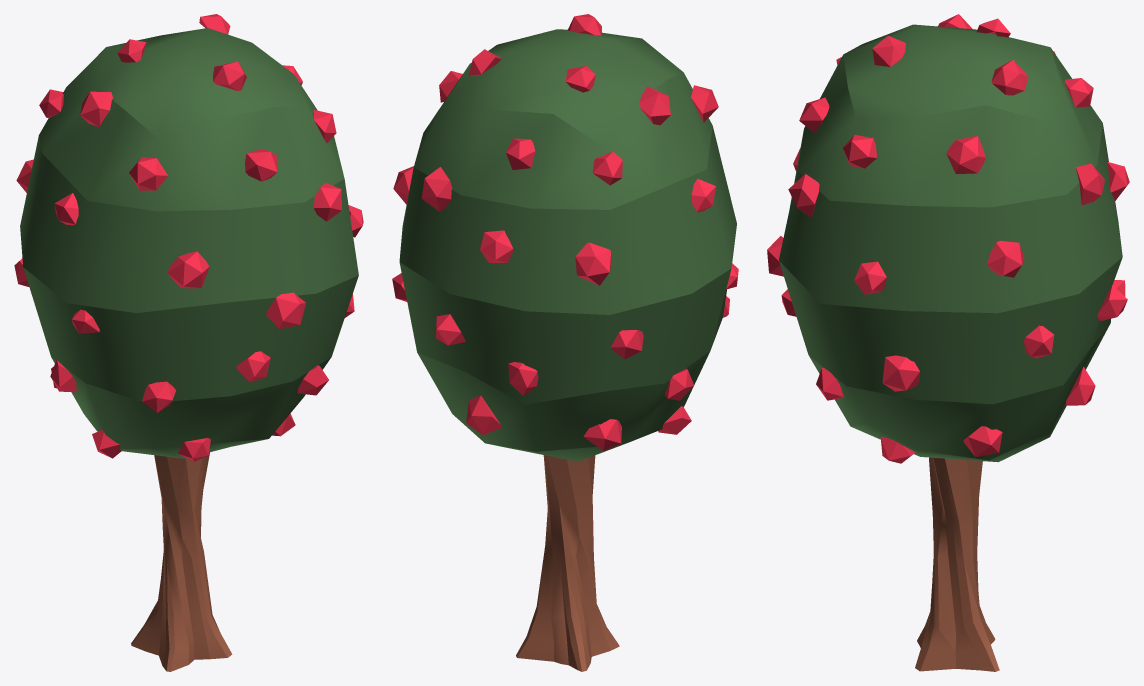
The model's file is Tree_2_High_WF.fbx.
The picture shows the model from 3 angles, left to right: view 1: azimuth 30°, elevation 25°; view 2: azimuth 150°, elevation 25°; view 3: azimuth 270°, elevation 25°; orthographic projection. The views are drawn at different scales.
Visible parts, largest first — view 1: Tree_2_High_WF; view 2: Tree_2_High_WF; view 3: Tree_2_High_WF.
Part boxes in pixels (x1=…): Tree_2_High_WF: x1=14, y1=14, x2=363, y2=671; Tree_2_High_WF: x1=392, y1=14, x2=738, y2=671; Tree_2_High_WF: x1=767, y1=14, x2=1129, y2=671.
Size of the model in its own units: 102 by 205 by 108.
